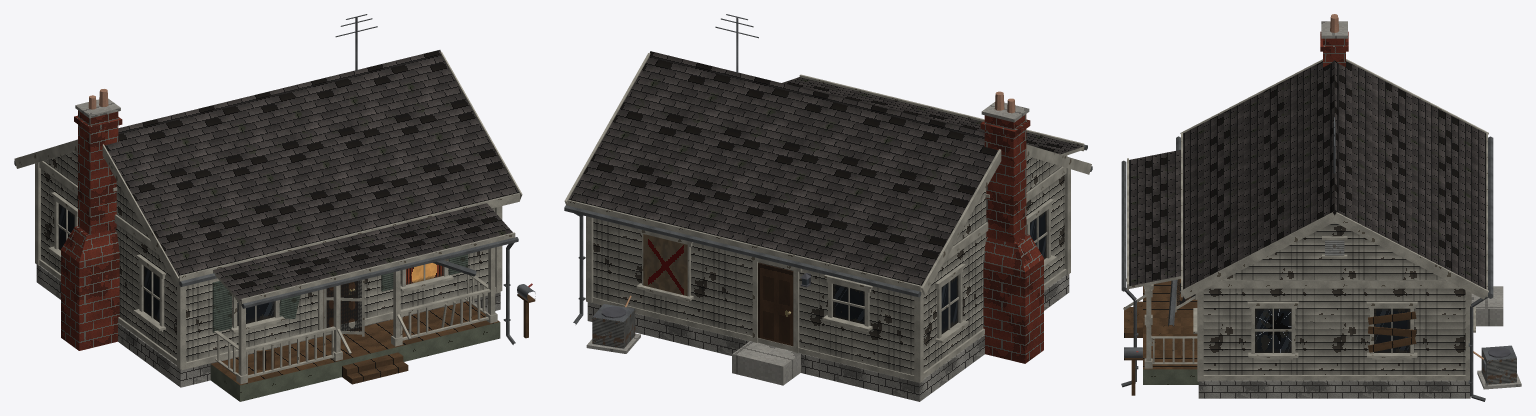
File: house_a.glb
The picture shows the model from 3 angles, left to right: view 1: azimuth 30°, elevation 25°; view 2: azimuth 150°, elevation 25°; view 3: azimuth 270°, elevation 25°; orthographic projection. The views are drawn at different scales.
Parts seen in each view (by area): view 1: detail, shell-col; view 2: detail, shell-col; view 3: detail, shell-col.
Part boxes in pixels (left/top/right/bottom): detail: left=14, top=14, right=535, bottom=384; shell-col: left=36, top=161, right=500, bottom=401; detail: left=564, top=14, right=1092, bottom=385; shell-col: left=587, top=166, right=1069, bottom=401; detail: left=1121, top=14, right=1521, bottom=401; shell-col: left=1124, top=279, right=1470, bottom=398.
Size of what is drawn, in the model's own units: 10.56 by 7.02 by 10.44.
Materials: 26 (26 with a texture image).
